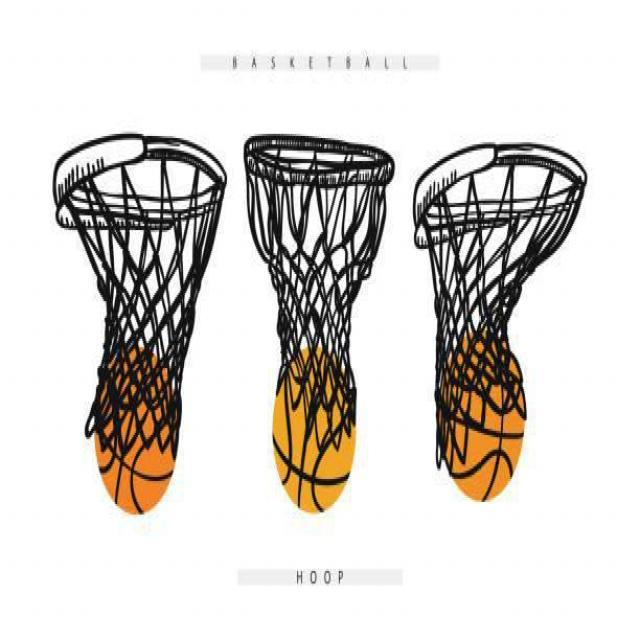Basketball: (439, 330, 527, 500), (95, 347, 179, 516), (272, 347, 356, 512)
hoop: (414, 142, 588, 472), (52, 134, 226, 452), (243, 134, 394, 452)
